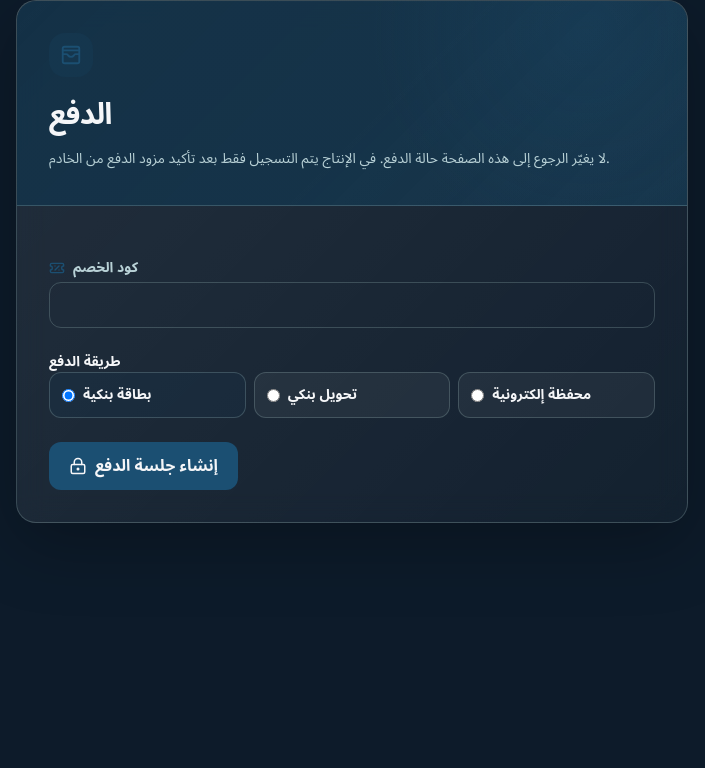
Test: T7-A6.4 ar UI and financial contracts › EWallet payload remains technical while radio name is localized
This screenshot has width=705, height=768.
Click the radio button labelled "محفظة إلكترونية". click: (478, 395)
box: [471, 388, 484, 402]
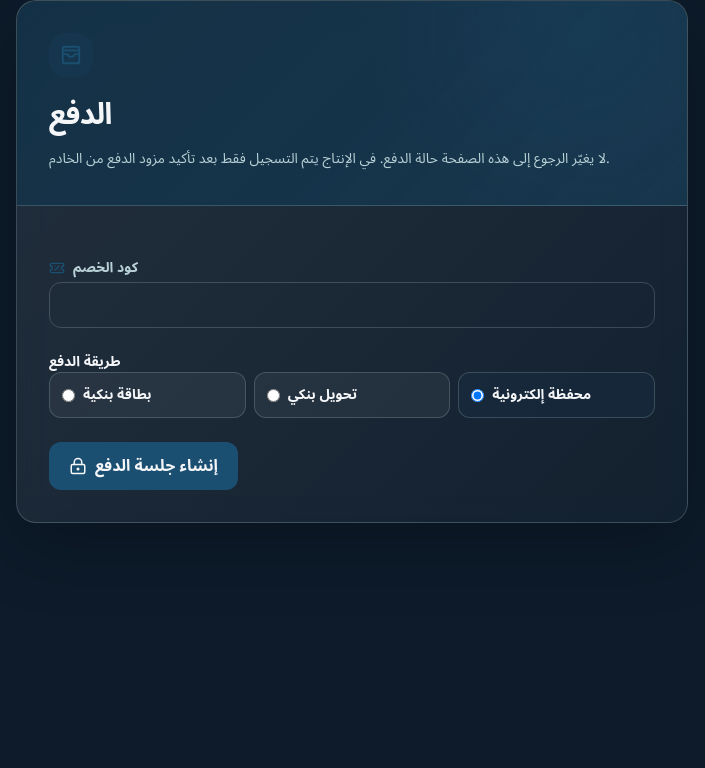
Type " RAW_coupon " into the field labelled "كود الخصم". click: (352, 305)
box: [49, 282, 655, 328]
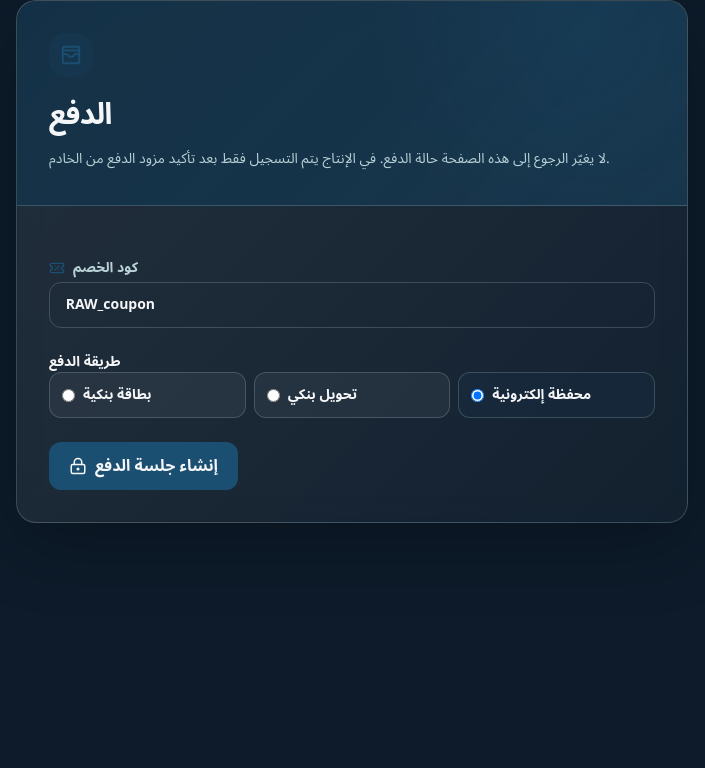
Click the button "إنشاء جلسة الدفع". click: (143, 466)
box: [49, 442, 238, 490]
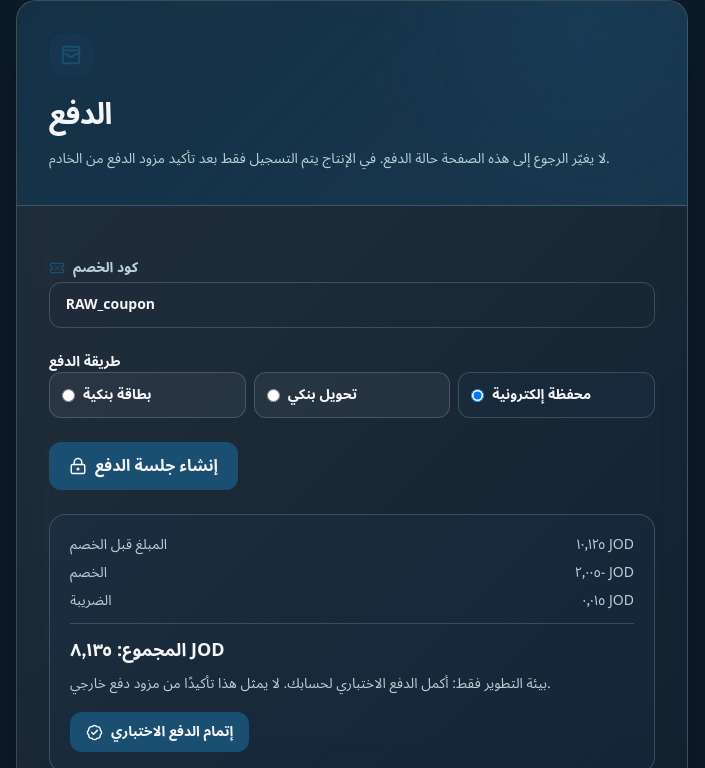
Check: the text "بيئة التطوير فقط: أكمل الدفع الاختباري لحسابك. لا يمثل هذا تأكيدًا من مزود دفع خارجي." is shown, box [70, 669, 551, 698]
